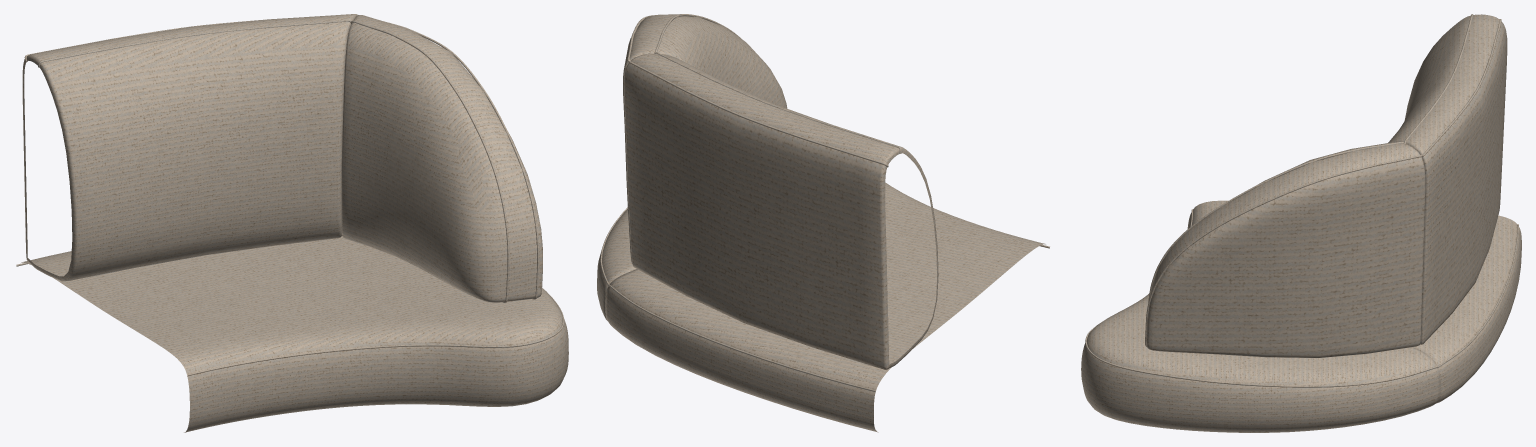
The model's file is levante_sofa_25.gltf.
3 renders of one model, left to right at view 1: azimuth 30°, elevation 25°; view 2: azimuth 150°, elevation 25°; view 3: azimuth 270°, elevation 25°, orthographic. The views are drawn at different scales.
Visible parts, largest first — view 1: sofa_25; view 2: sofa_25; view 3: sofa_25.
Part boxes in pixels (left/top/right/bottom): sofa_25: left=16, top=14, right=568, bottom=432; sofa_25: left=597, top=14, right=1049, bottom=432; sofa_25: left=1081, top=14, right=1521, bottom=432.
Size of the model in its own units: 0.9286 by 0.654 by 1.01.
2 materials, 2 textured.
